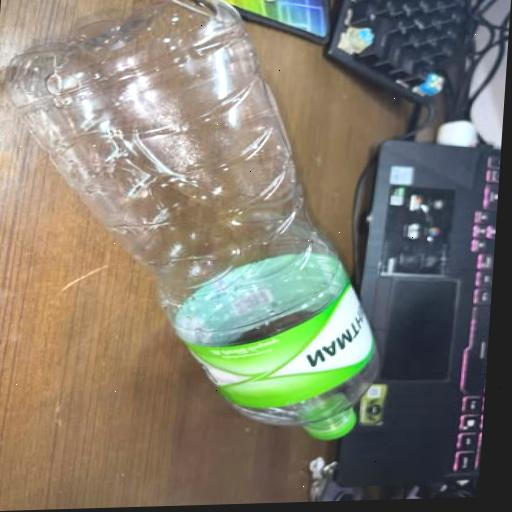ba: (0, 0, 418, 460)
